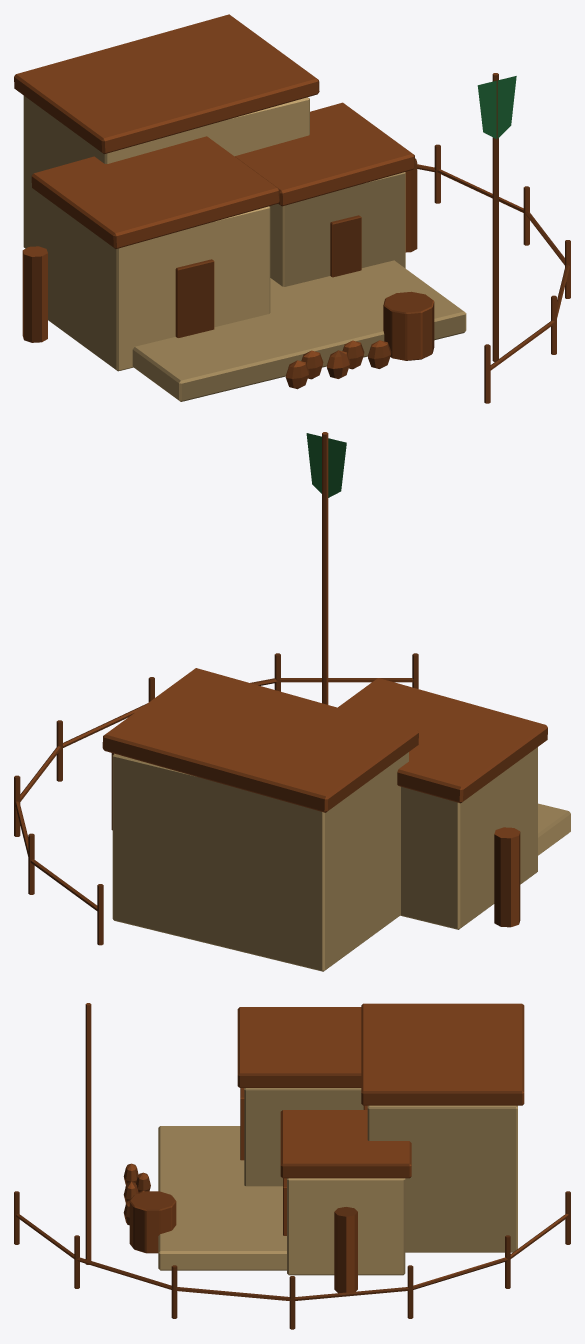
The model's file is edificio-b_002-e1-DzPog7YY.glb.
3 views of the same model, one above another, from view 1: azimuth 30°, elevation 25°; view 2: azimuth 150°, elevation 25°; view 3: azimuth 270°, elevation 25° (orthographic). The views are drawn at different scales.
Parts seen in each view (by area): view 1: edificio_b_002_e1_detalles, edificio_b_002_e1_envolvente, edificio_b_002_e1_team_color; view 2: edificio_b_002_e1_envolvente, edificio_b_002_e1_detalles, edificio_b_002_e1_team_color; view 3: edificio_b_002_e1_envolvente, edificio_b_002_e1_detalles.
Boxes of the visible parts, x1,y1,x2,y2 form: edificio_b_002_e1_detalles: (14, 14, 570, 403); edificio_b_002_e1_envolvente: (23, 96, 466, 401); edificio_b_002_e1_team_color: (477, 76, 516, 138); edificio_b_002_e1_envolvente: (112, 747, 570, 971); edificio_b_002_e1_detalles: (14, 432, 547, 945); edificio_b_002_e1_team_color: (306, 433, 346, 497); edificio_b_002_e1_envolvente: (158, 1088, 517, 1275); edificio_b_002_e1_detalles: (14, 1003, 570, 1329).
Bounding box in the file's own units: 46.33 × 27 × 51.88.
Materials: 3 (3 with a texture image).
